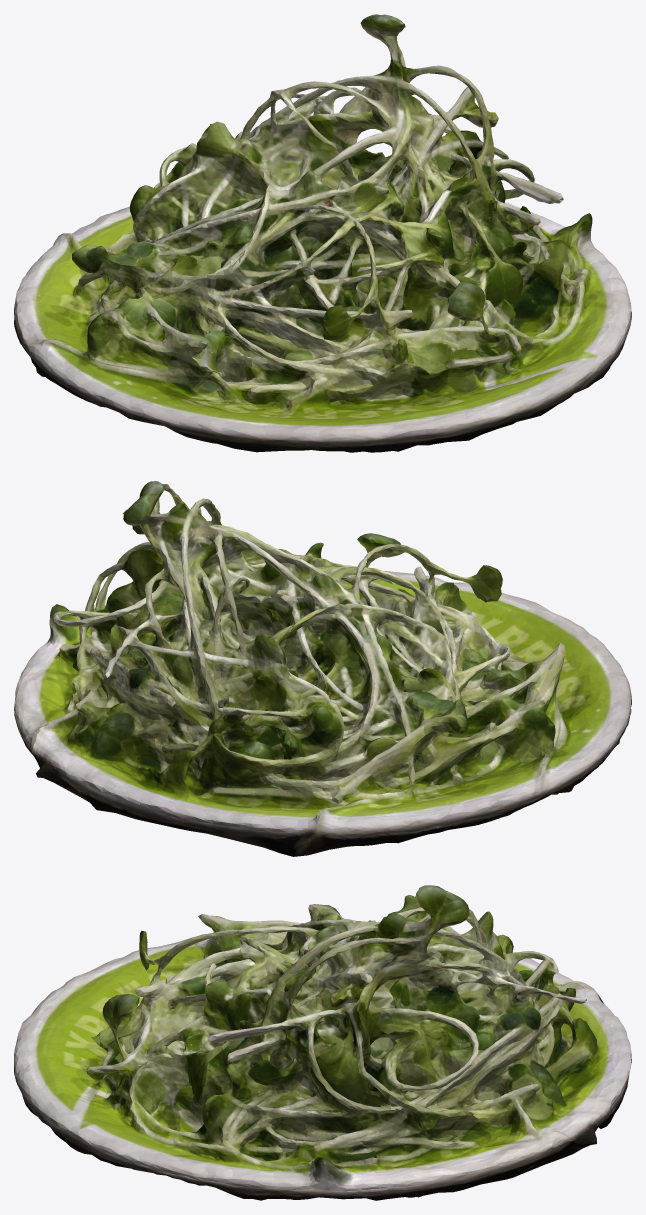
The model's file is Rau.fbx.
3 renders of one model, top to bottom at view 1: azimuth 30°, elevation 25°; view 2: azimuth 150°, elevation 25°; view 3: azimuth 270°, elevation 25°, orthographic.
Parts seen in each view (by area): view 1: metascan_20240712_1951; view 2: metascan_20240712_1951; view 3: metascan_20240712_1951.
Part boxes in pixels (left/top/right/bottom): metascan_20240712_1951: left=14, top=14, right=631, bottom=452; metascan_20240712_1951: left=14, top=481, right=631, bottom=856; metascan_20240712_1951: left=14, top=885, right=631, bottom=1200.
Bounding box in the file's own units: 0.1499 × 0.0716 × 0.1488.
1 material, 1 textured.
